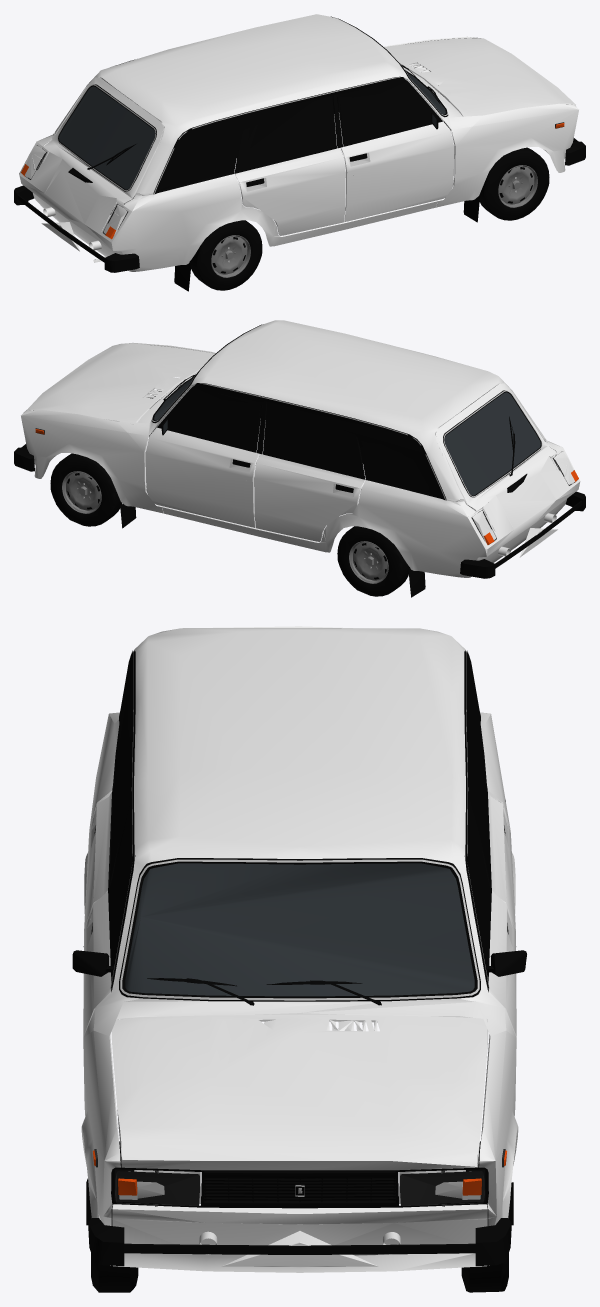
File: vaz2104.obj
3 views of the same model, one above another, from view 1: azimuth 30°, elevation 25°; view 2: azimuth 150°, elevation 25°; view 3: azimuth 270°, elevation 25° (orthographic). The views are drawn at different scales.
Parts seen in each view (by area): view 1: vaz2104_04paintPaint, vaz2104_jigplastic, vaz2104_winglassGlass, vaz2104_jigrubber, vaz2104_wheeltire, vaz2104_wheelrim, vaz2104_jigchrome, vaz2104_hlchrome, vaz2104_jigmetallic; view 2: vaz2104_04paintPaint, vaz2104_jigplastic, vaz2104_winglassGlass, vaz2104_jigrubber, vaz2104_wheeltire, vaz2104_wheelrim, vaz2104_jigchrome, vaz2104_hlchrome, vaz2104_jigmetallic; view 3: vaz2104_04paintPaint, vaz2104_winglassGlass, vaz2104_jigplastic, vaz2104_jigrubber, vaz2104_hlplastic, vaz2104_jigchrome, vaz2104_wheeltire, vaz2104_jigmetallic, vaz2104_hlchrome.
Boxes of the visible parts, bbox=[...] form: vaz2104_04paintPaint: bbox=[19, 14, 578, 271]; vaz2104_jigplastic: bbox=[14, 65, 585, 272]; vaz2104_winglassGlass: bbox=[59, 73, 445, 189]; vaz2104_jigrubber: bbox=[58, 16, 480, 291]; vaz2104_wheeltire: bbox=[110, 85, 549, 290]; vaz2104_wheelrim: bbox=[211, 165, 537, 277]; vaz2104_jigchrome: bbox=[53, 66, 447, 195]; vaz2104_hlchrome: bbox=[24, 145, 127, 236]; vaz2104_jigmetallic: bbox=[41, 207, 105, 262]; vaz2104_04paintPaint: bbox=[21, 320, 580, 577]; vaz2104_jigplastic: bbox=[14, 374, 585, 578]; vaz2104_winglassGlass: bbox=[154, 378, 540, 495]; vaz2104_jigrubber: bbox=[120, 324, 541, 597]; vaz2104_wheeltire: bbox=[50, 390, 486, 596]; vaz2104_wheelrim: bbox=[62, 471, 388, 583]; vaz2104_jigchrome: bbox=[152, 371, 545, 501]; vaz2104_hlchrome: bbox=[472, 451, 574, 543]; vaz2104_jigmetallic: bbox=[486, 513, 557, 557]; vaz2104_04paintPaint: bbox=[81, 626, 518, 1272]; vaz2104_winglassGlass: bbox=[125, 863, 474, 996]; vaz2104_jigplastic: bbox=[72, 653, 526, 1265]; vaz2104_jigrubber: bbox=[86, 650, 513, 1225]; vaz2104_hlplastic: bbox=[94, 1149, 505, 1206]; vaz2104_jigchrome: bbox=[83, 650, 516, 1196]; vaz2104_wheeltire: bbox=[91, 986, 508, 1292]; vaz2104_jigmetallic: bbox=[199, 1231, 400, 1267]; vaz2104_hlchrome: bbox=[119, 1170, 480, 1204].
Bounding box in the file's own units: 4.11 × 1.42 × 1.69.
16 materials, 16 textured.
